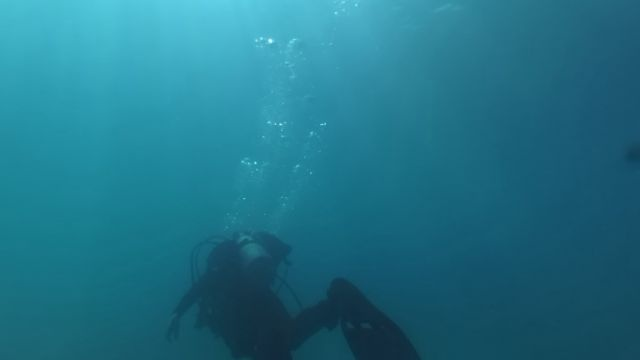Diver: (154, 225, 425, 359)
Hand: (158, 308, 188, 345)
